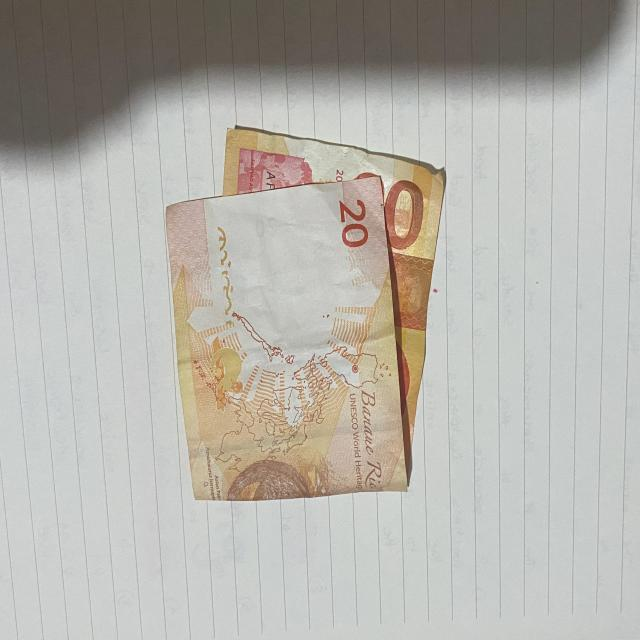concealed_value: (396, 252, 433, 331)
see_through_mark: (215, 223, 239, 321)
value: (391, 172, 423, 246)
watermark: (220, 208, 344, 345)
